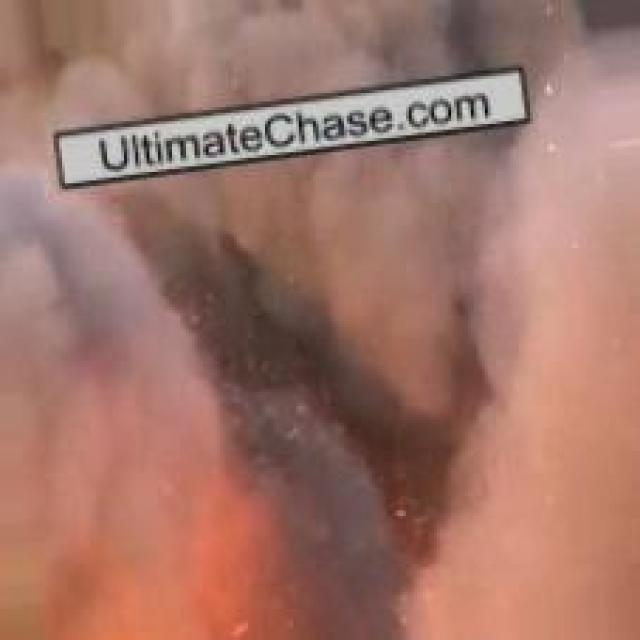smoke: (13, 6, 614, 608)
